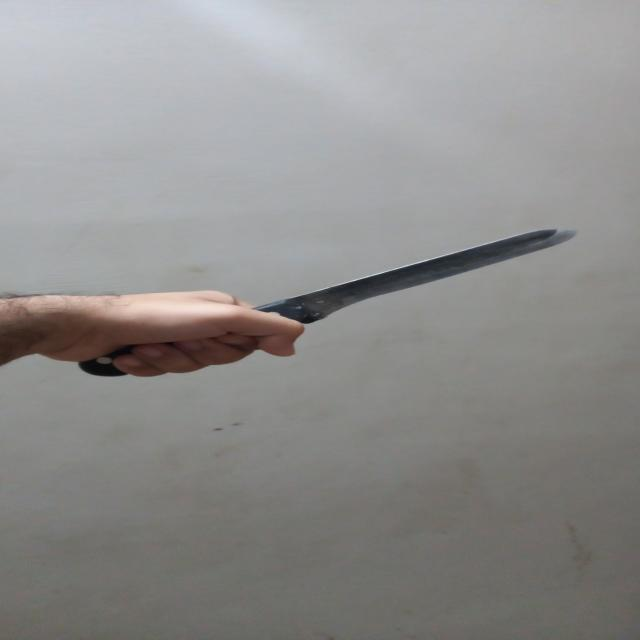Knife: (63, 222, 590, 376)
